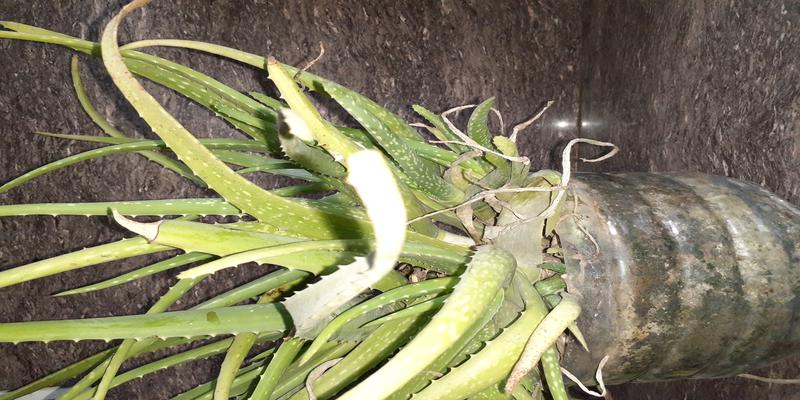Aloevera: (107, 59, 579, 400)
